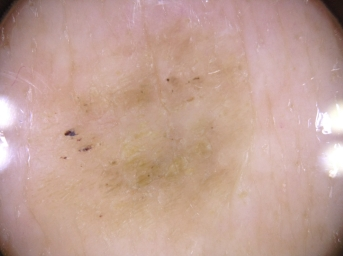seborrheic keratosis: (28, 41, 245, 228)
